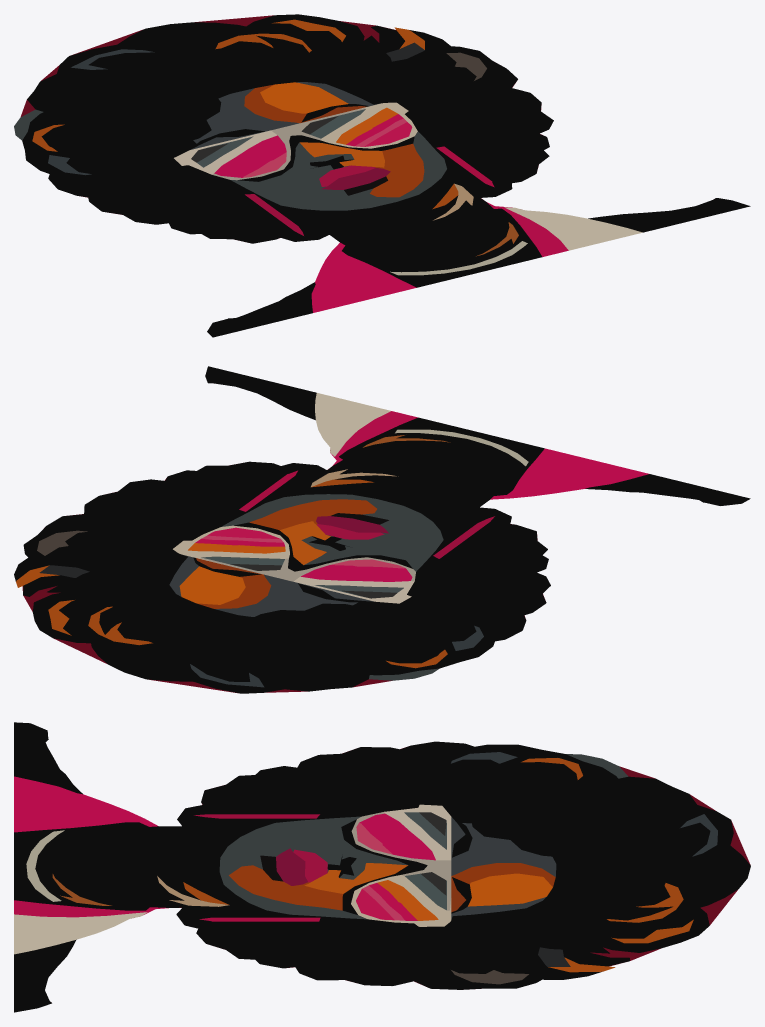
Rendered from SM_VC_Lady06.fbx.
The picture shows the model from 3 angles, top to bottom: view 1: azimuth 30°, elevation 25°; view 2: azimuth 150°, elevation 25°; view 3: azimuth 270°, elevation 25°; orthographic projection. The views are drawn at different scales.
Parts seen in each view (by area): view 1: polySurface1; view 2: polySurface1; view 3: polySurface1.
Boxes of the visible parts, box(x1,y1,x2,y2) form: polySurface1: box(14, 14, 750, 337); polySurface1: box(14, 366, 750, 693); polySurface1: box(14, 722, 750, 1012).
Bounding box in the file's own units: 4.49 × 1.19e-07 × 4.82.
